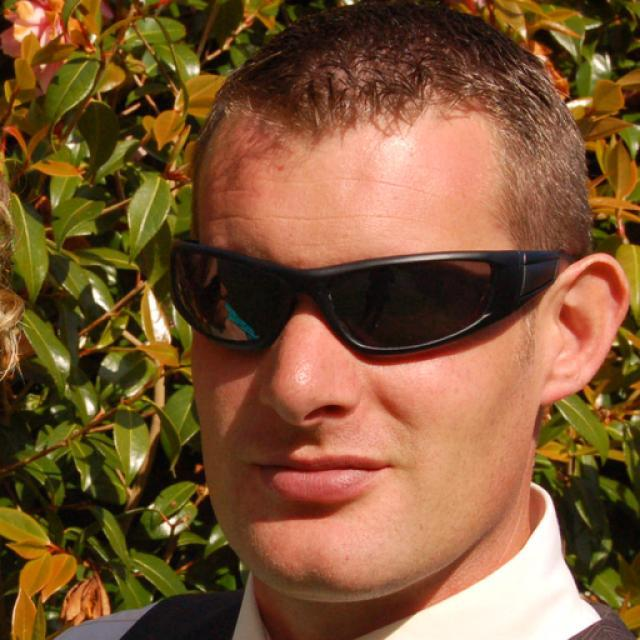content: (196, 99, 538, 604)
